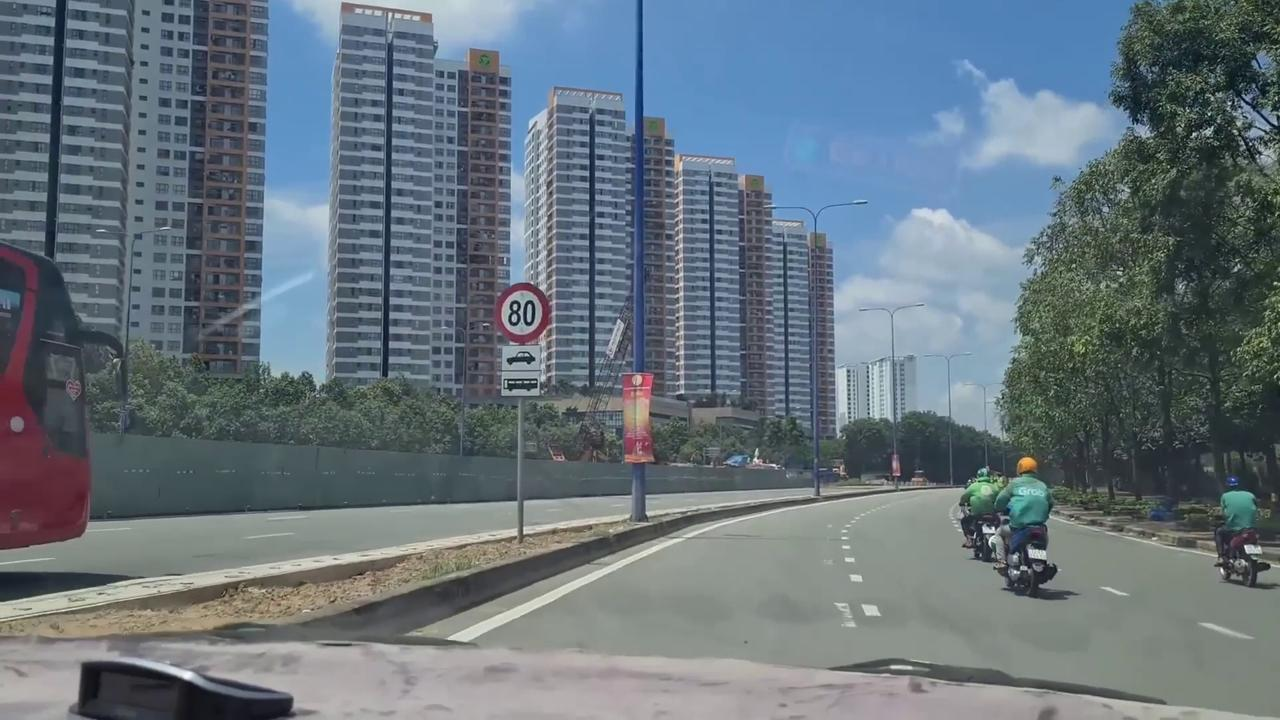Biển phụ: (497, 342, 543, 397)
Giới hạn tốc độ 80Km/h: (491, 280, 555, 344)
